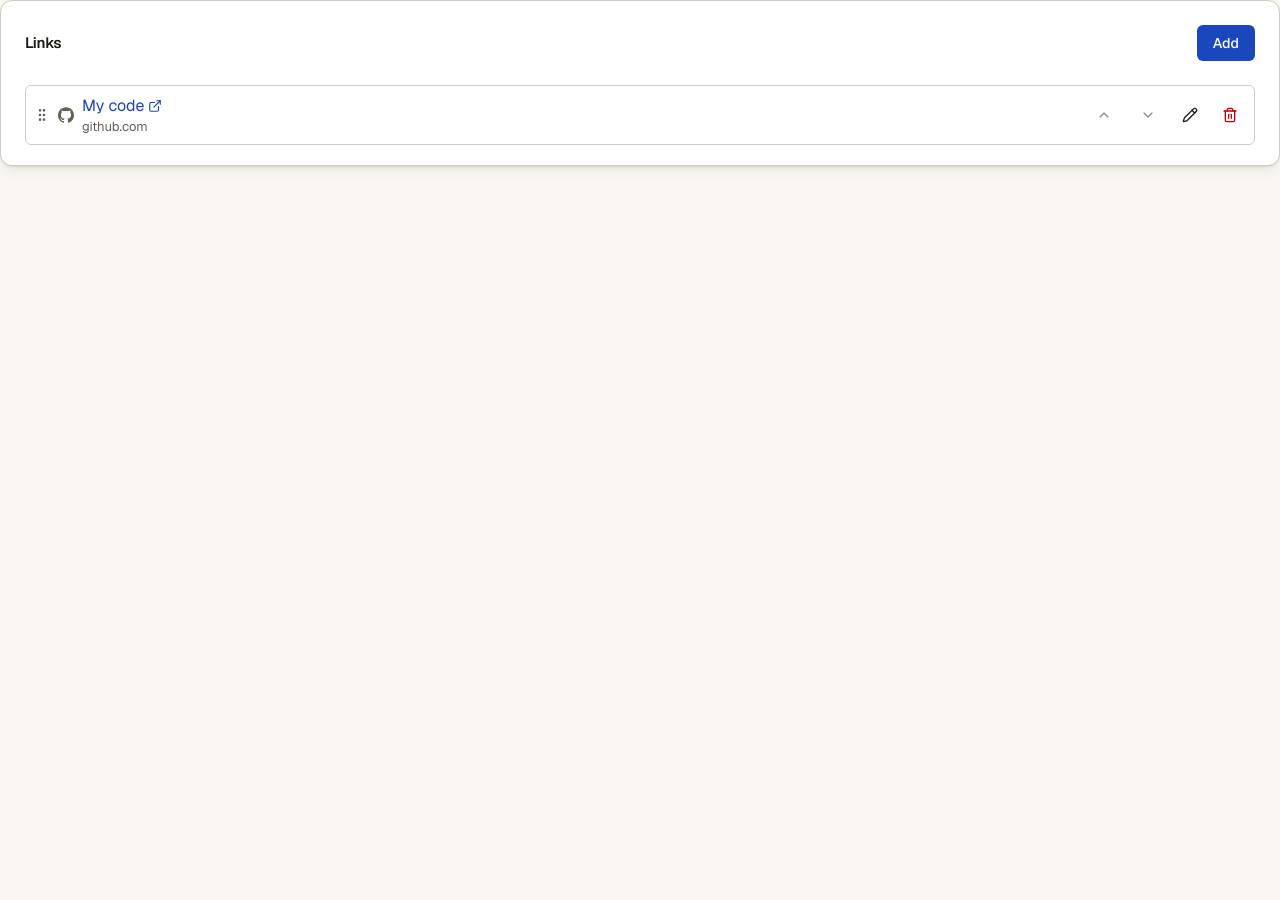
Test: adding a link happens in a dialog, not inline in the card › opens the form in a dialog when the add button is pressed
Click the button "Add": {"x": 1226, "y": 43} top-left (1197, 25), bottom-right (1255, 61)
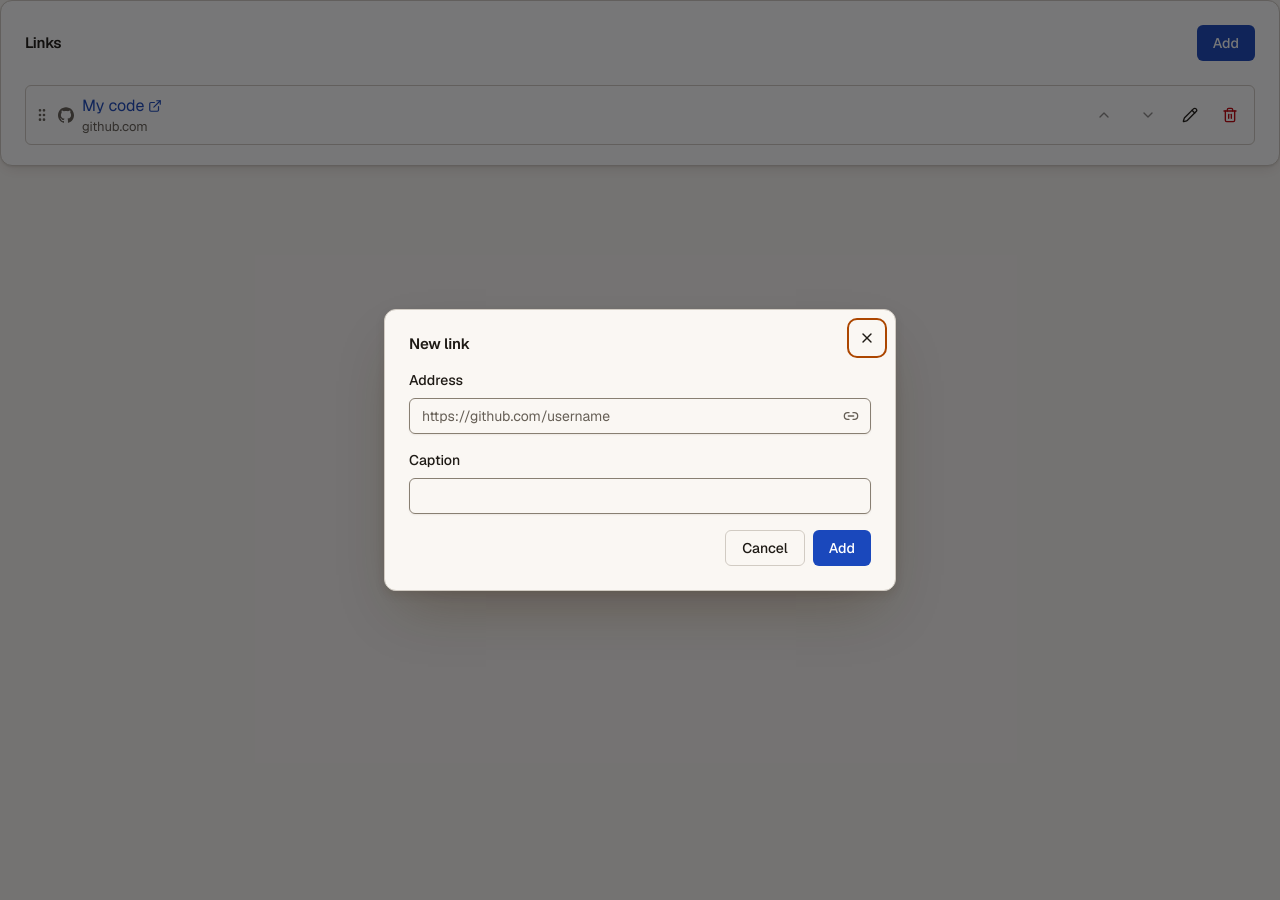
Expected: the field labelled "Address" is shown, top-left (409, 398), bottom-right (871, 434)
Expected: the dialog is shown, top-left (384, 309), bottom-right (896, 591)
